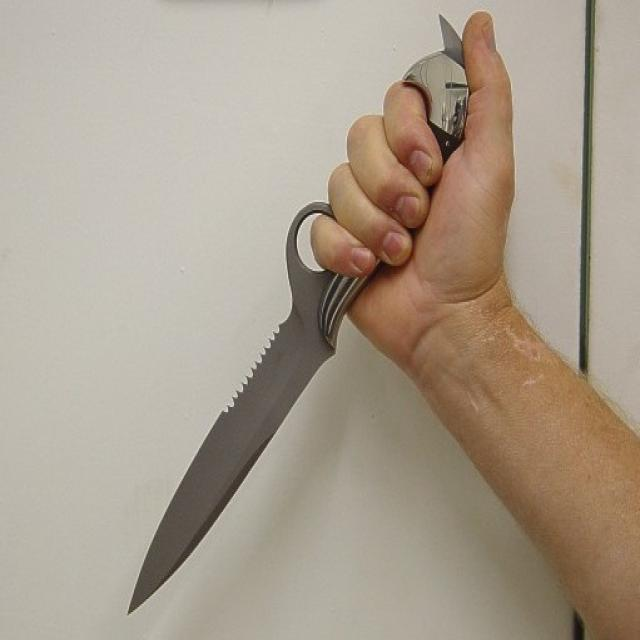knife: (106, 12, 470, 625)
